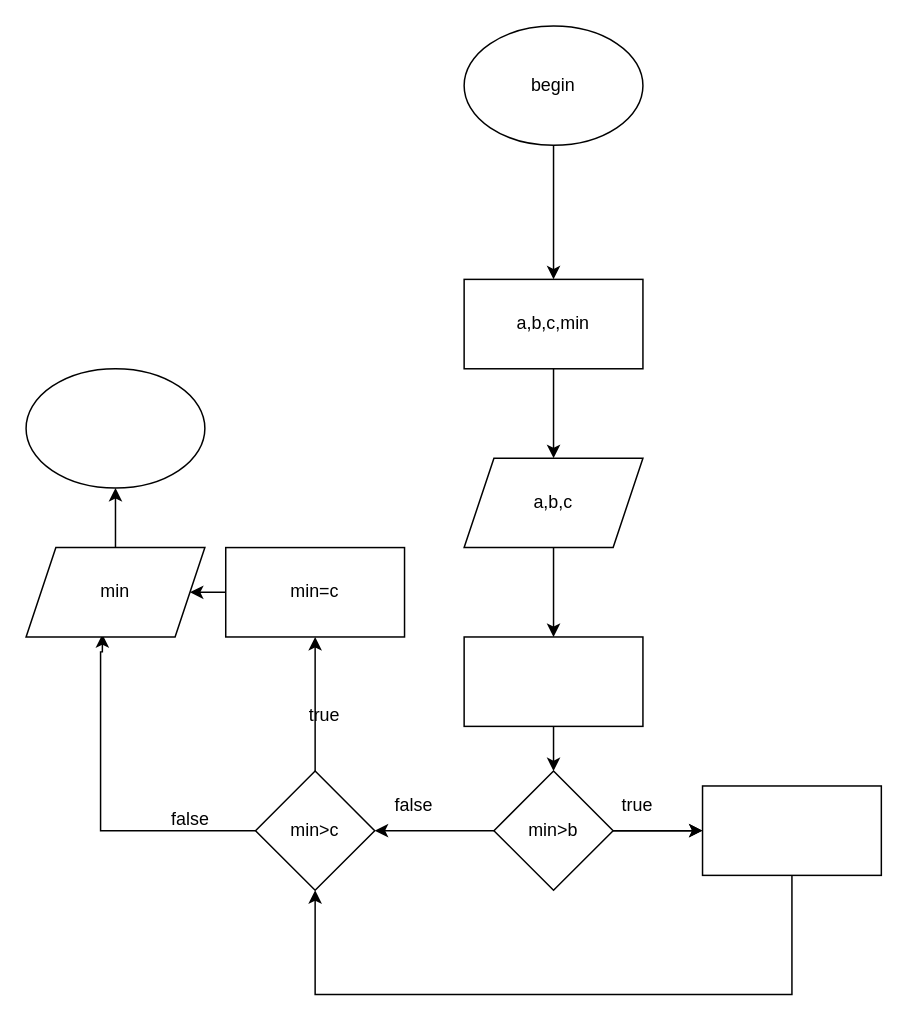
Image size: 907x1033. Some labels were removed from this diagram. The centre of each missing label's shape, as x and y in pixels:
end: [115,427]
min=a: [553,680]
min=b: [791,829]
